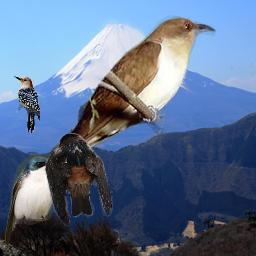Cuckoo: (39, 15, 216, 186)
Swallow: (45, 133, 113, 226), (5, 153, 59, 246)
Woodpecker: (14, 76, 40, 133)
